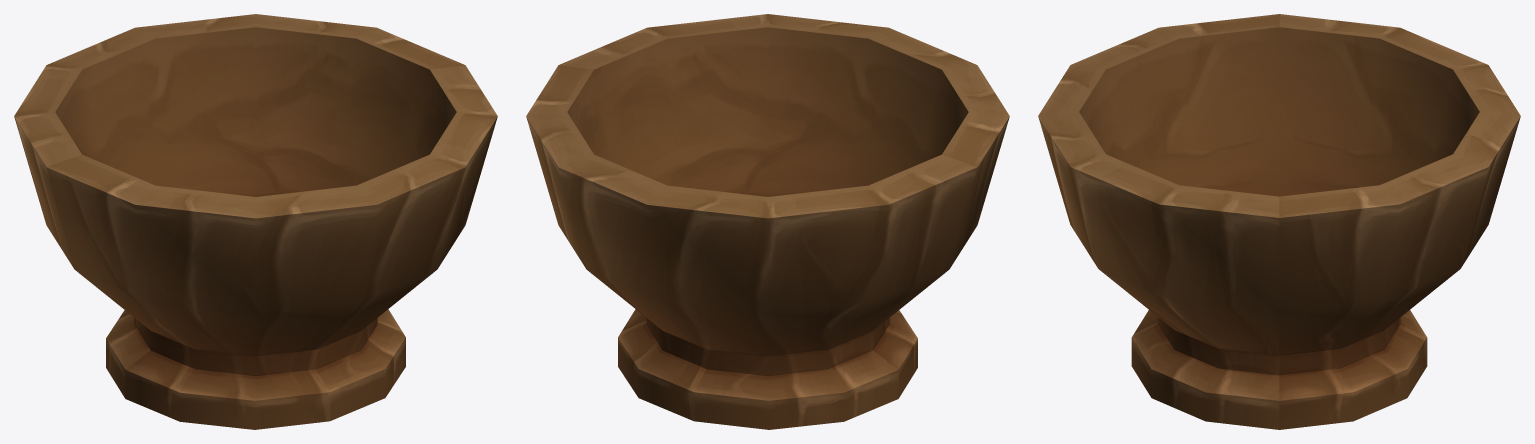
Rendered from Mortar.FBX.
The picture shows the model from 3 angles, left to right: view 1: azimuth 30°, elevation 25°; view 2: azimuth 150°, elevation 25°; view 3: azimuth 270°, elevation 25°; orthographic projection.
Parts seen in each view (by area): view 1: Mortar; view 2: Mortar; view 3: Mortar.
Part boxes in pixels (box(x1,y1,x2,y2)): Mortar: box(14, 14, 497, 429); Mortar: box(526, 14, 1009, 429); Mortar: box(1038, 14, 1520, 429).
Size of the model in its own units: 22.95 by 22.95 by 13.35.
